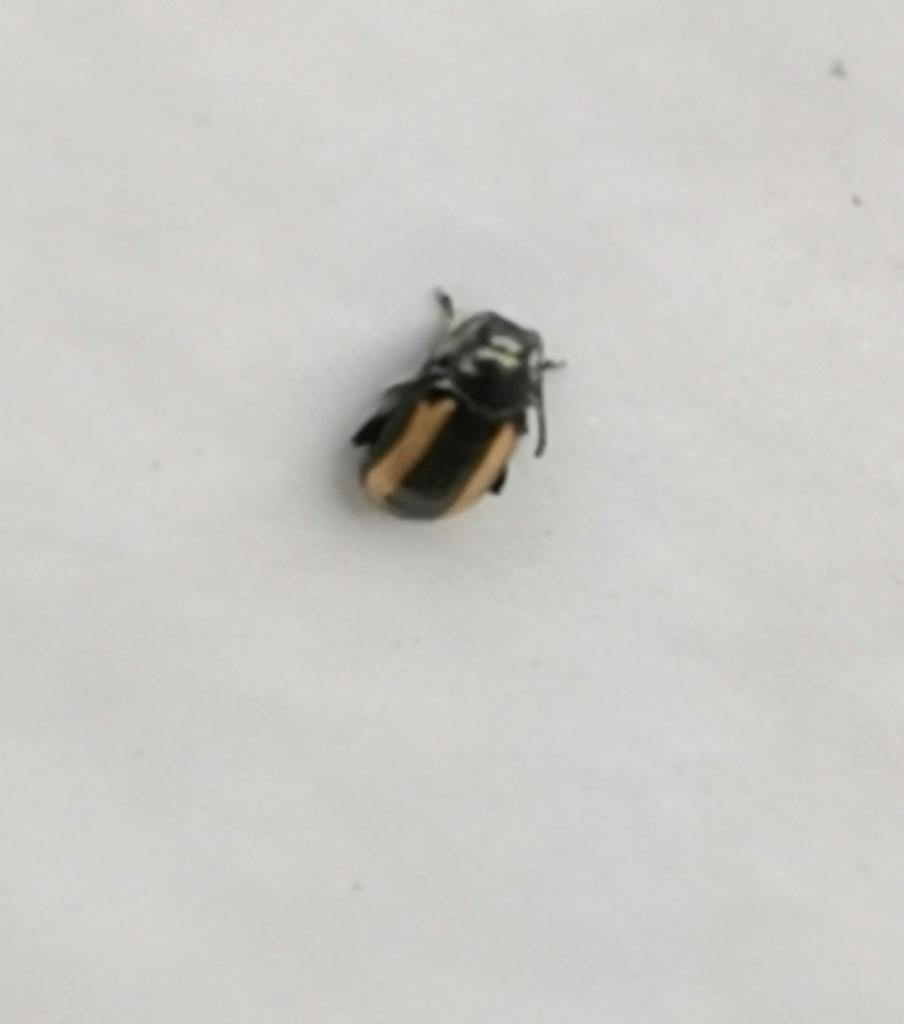flea_beetle: (269, 223, 629, 593)
